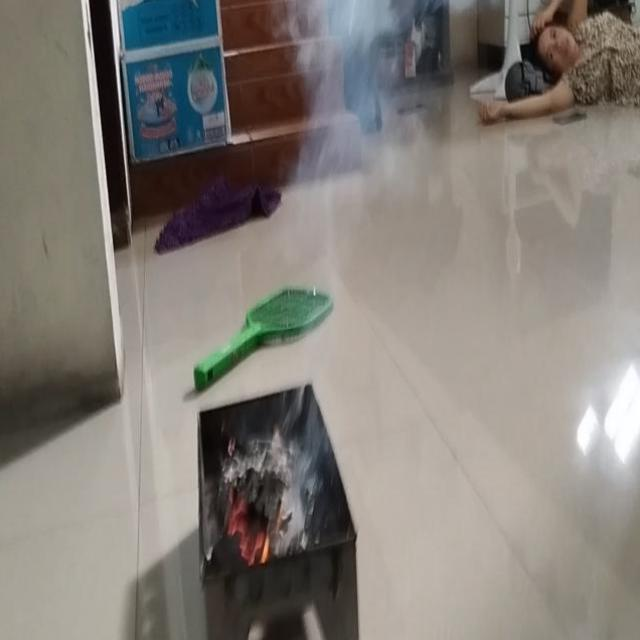fire: (288, 0, 417, 210), (274, 214, 356, 484)
smoke: (224, 488, 272, 565)
